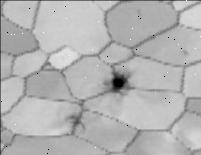good_void: (108, 70, 130, 94), (66, 113, 85, 128), (179, 49, 190, 55)
